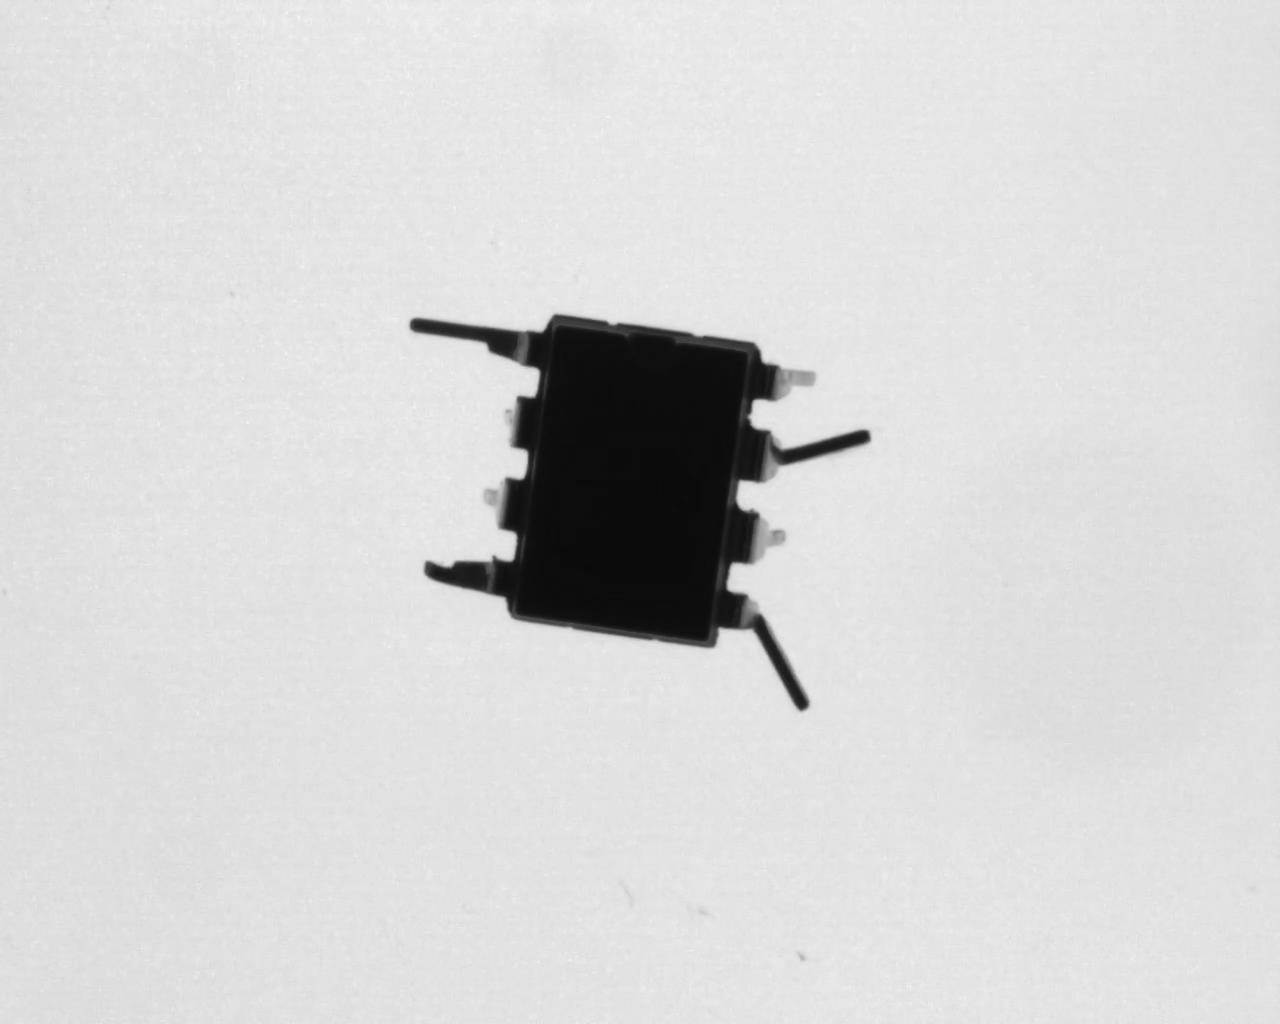Leg: (711, 597, 819, 716), (743, 413, 878, 494), (400, 318, 551, 367), (415, 553, 523, 607), (734, 505, 800, 576), (476, 473, 533, 541), (752, 354, 825, 403), (495, 393, 543, 458)
